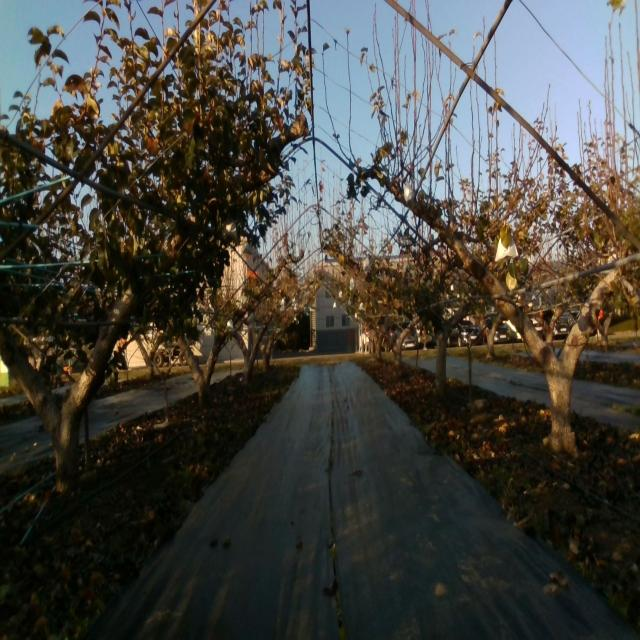pearbags: (494, 237, 518, 262), (222, 214, 238, 240), (404, 184, 414, 208)
